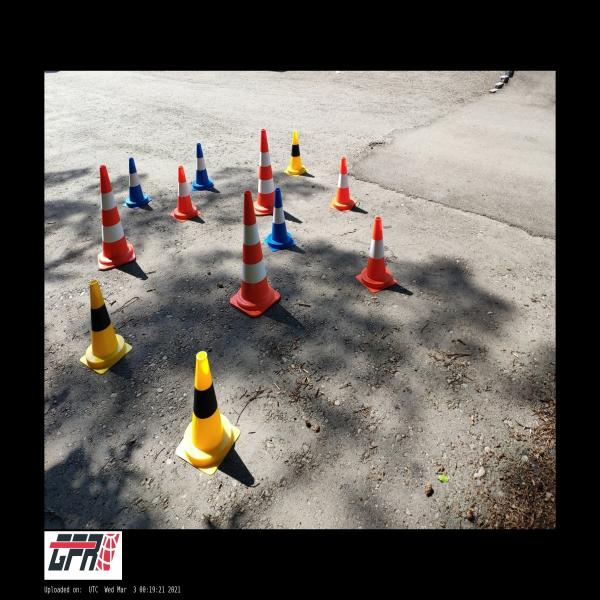blue_cone: (264, 189, 296, 252), (124, 158, 152, 208), (192, 143, 213, 190)
large_orange_cone: (230, 190, 280, 316), (97, 165, 136, 270), (254, 129, 274, 215)
orange_cone: (356, 216, 397, 293), (170, 167, 200, 221), (329, 157, 357, 212)
yellow_cone: (176, 351, 240, 475), (81, 280, 132, 375), (284, 131, 308, 176)
